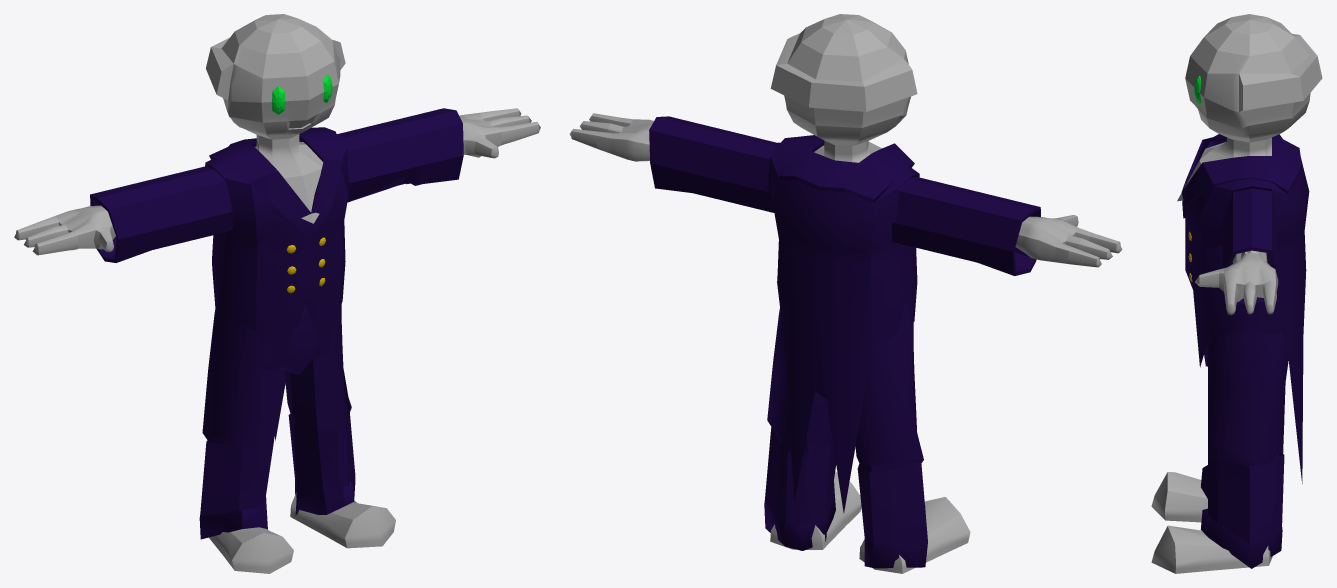
Rendered from Butler Model.fbx.
The picture shows the model from 3 angles, left to right: view 1: azimuth 30°, elevation 25°; view 2: azimuth 150°, elevation 25°; view 3: azimuth 270°, elevation 25°; orthographic projection. The views are drawn at different scales.
Parts seen in each view (by area): view 1: polySurface38, polySurface37, polySurface39, polySurface41, polySurface27, polySurface26, polySurface33, polySurface40; view 2: polySurface38, polySurface37, polySurface39, polySurface41, polySurface40, polySurface26, polySurface27, polySurface33; view 3: polySurface38, polySurface37, polySurface39, polySurface40, polySurface27, polySurface26, polySurface33.
Boxes of the visible parts, left/top/right/bottom form: polySurface38: left=90, top=108, right=463, bottom=440; polySurface37: left=199, top=289, right=355, bottom=539; polySurface39: left=206, top=14, right=345, bottom=139; polySurface41: left=14, top=205, right=115, bottom=255; polySurface27: left=290, top=482, right=395, bottom=548; polySurface26: left=209, top=527, right=293, bottom=573; polySurface33: left=255, top=134, right=323, bottom=223; polySurface40: left=459, top=108, right=540, bottom=158; polySurface38: left=649, top=116, right=1040, bottom=513; polySurface37: left=764, top=301, right=927, bottom=568; polySurface39: left=770, top=14, right=917, bottom=145; polySurface41: left=1015, top=215, right=1122, bottom=267; polySurface40: left=569, top=113, right=670, bottom=161; polySurface26: left=859, top=497, right=970, bottom=573; polySurface27: left=770, top=471, right=861, bottom=549; polySurface33: left=814, top=140, right=881, bottom=162; polySurface38: left=1181, top=134, right=1309, bottom=483; polySurface37: left=1200, top=322, right=1288, bottom=568; polySurface39: left=1185, top=14, right=1322, bottom=142; polySurface40: left=1195, top=250, right=1278, bottom=315; polySurface27: left=1151, top=525, right=1272, bottom=573; polySurface26: left=1151, top=472, right=1207, bottom=522; polySurface33: left=1177, top=137, right=1271, bottom=201.
Bounding box in the file's own units: 73.77 × 70.11 × 21.13.
